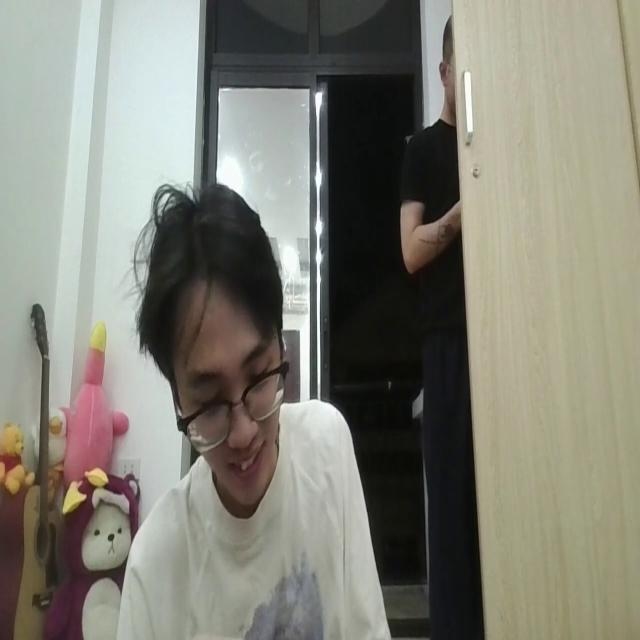extra_person: (401, 10, 481, 640)
student: (113, 179, 390, 640)
